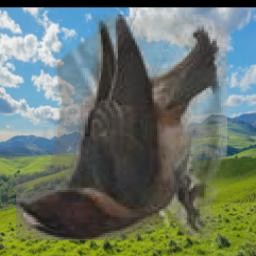Swallow: (17, 16, 228, 241)
